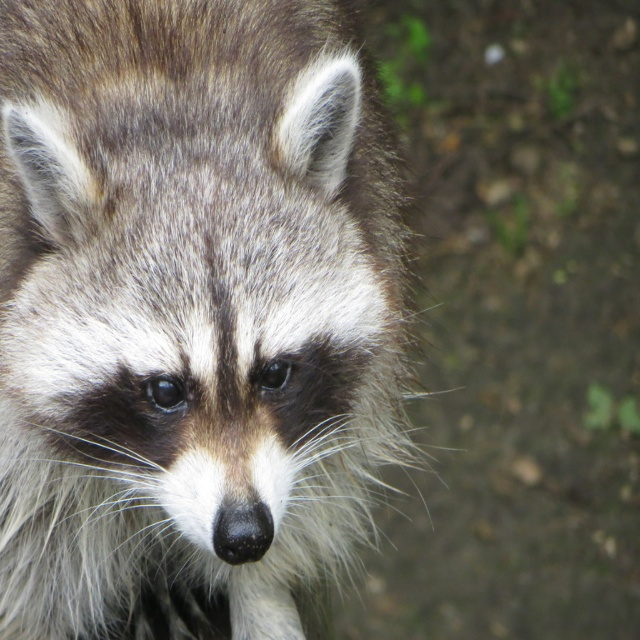Raccoon: (0, 0, 466, 639)
